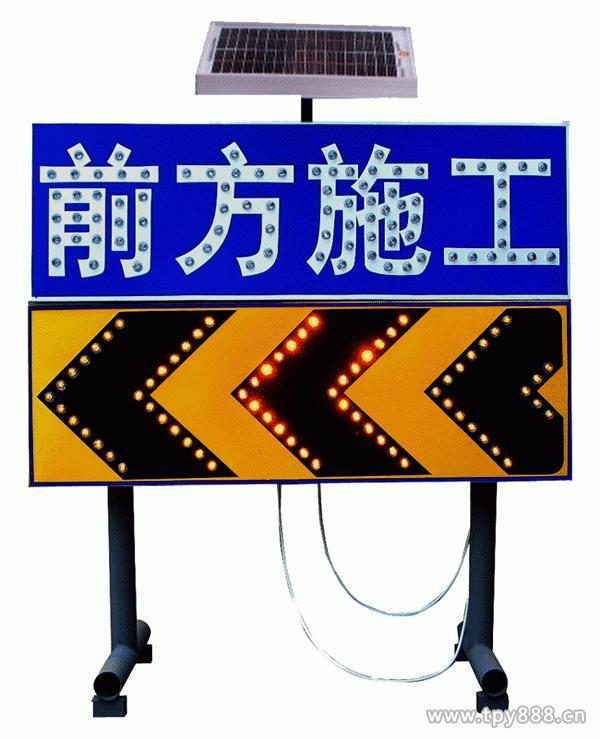sign: (32, 124, 576, 297)
